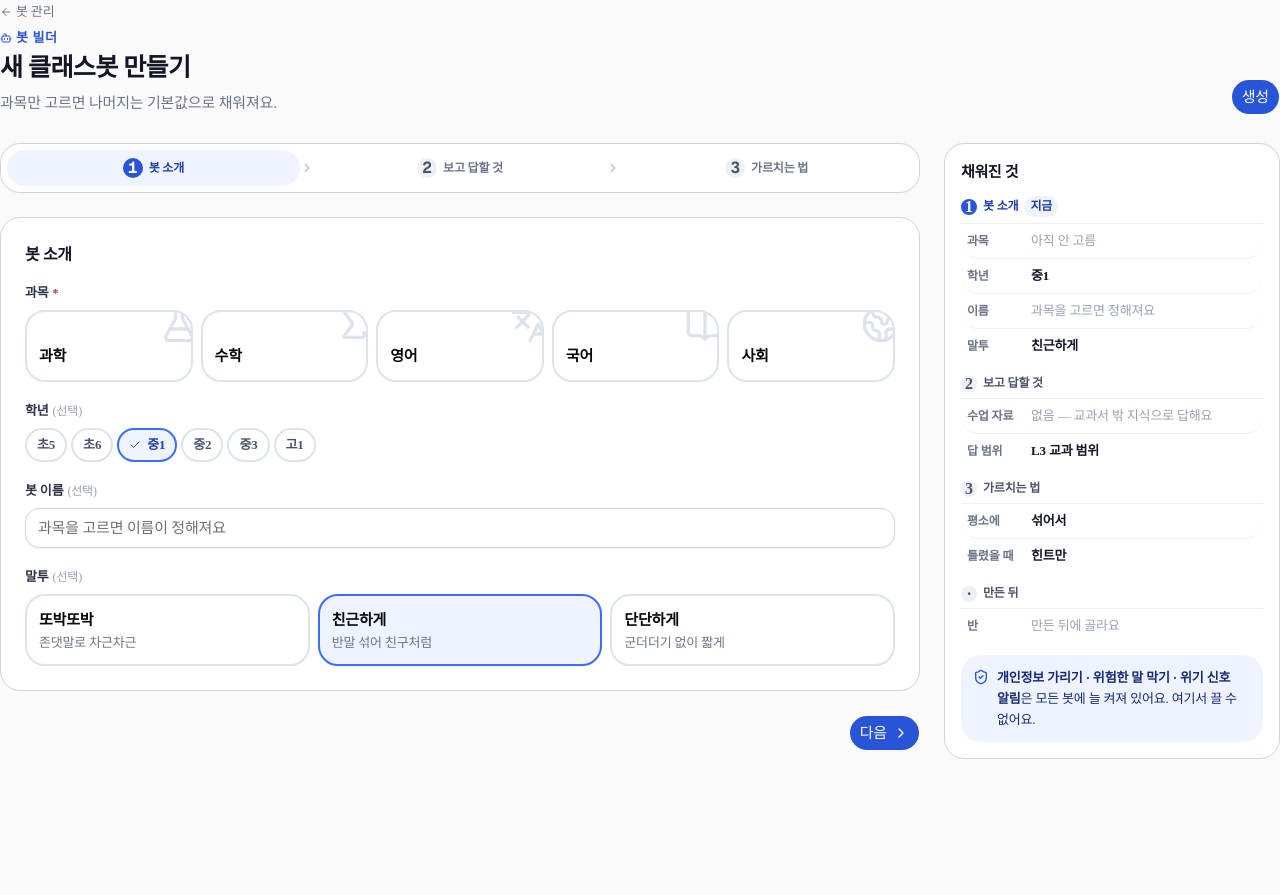
Scenario: 과목은 기본값이 없다 › 과목만 고르면 마당 1 에서 끝낼 수 있다 — 남은 여덟은 기본값으로 들어간다
The width and height of the screenshot is (1280, 895).
Click the radio button labelled "과학" at (109, 346), box [25,310,193,382]
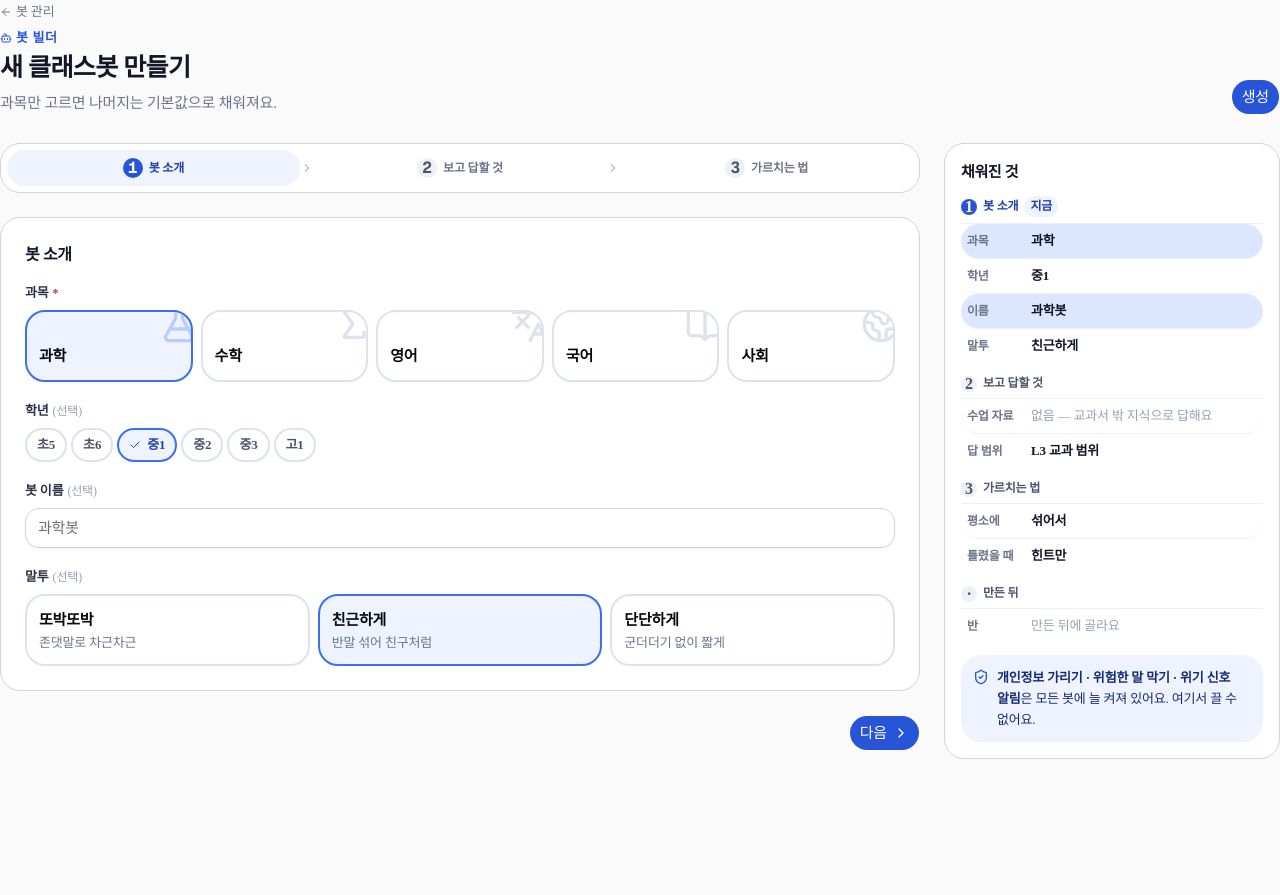
Click the button with aria-label "채운 그대로 봇 생성하기" at (1255, 97), box [1231,79,1279,115]
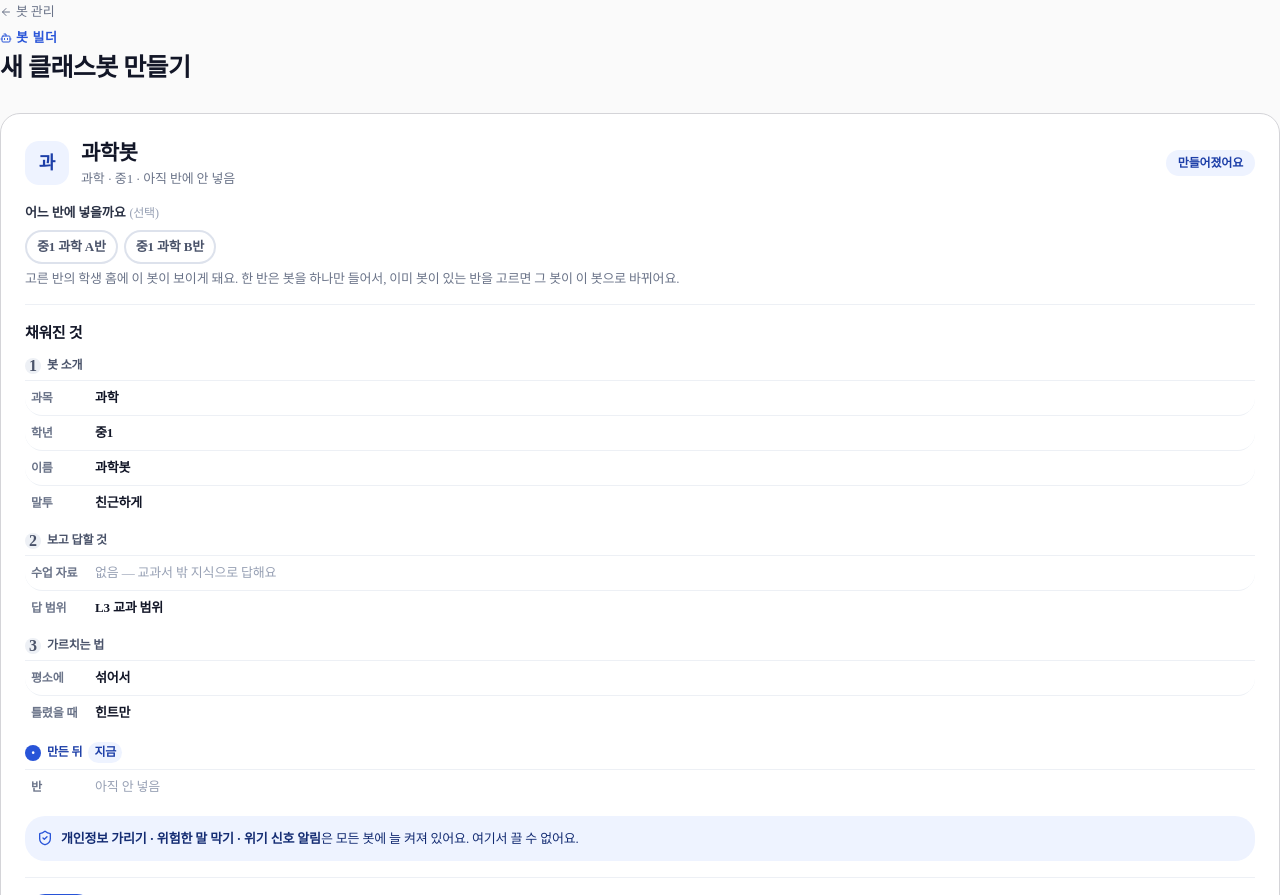
Expected: the element with test id "summary-row-grade" shows "중1", [95,425,113,440]
Expected: the text "만들어졌어요" is shown, [1166,150,1255,176]
Expected: the heading "과학봇" is shown, [81,141,137,165]
